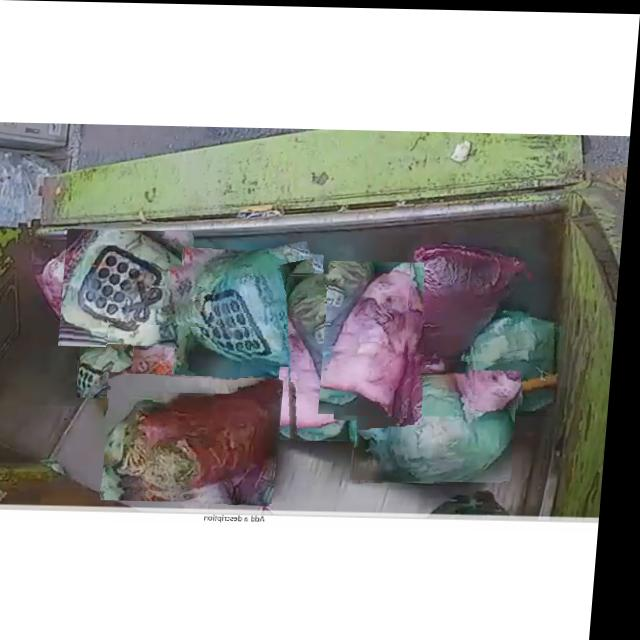general_trashbag: (187, 247, 329, 366), (362, 375, 520, 479), (67, 230, 193, 344), (291, 274, 376, 439), (474, 315, 564, 405), (84, 349, 137, 396)
other_trashbag: (113, 379, 287, 494), (327, 261, 426, 415), (414, 244, 531, 357), (113, 325, 244, 393)
